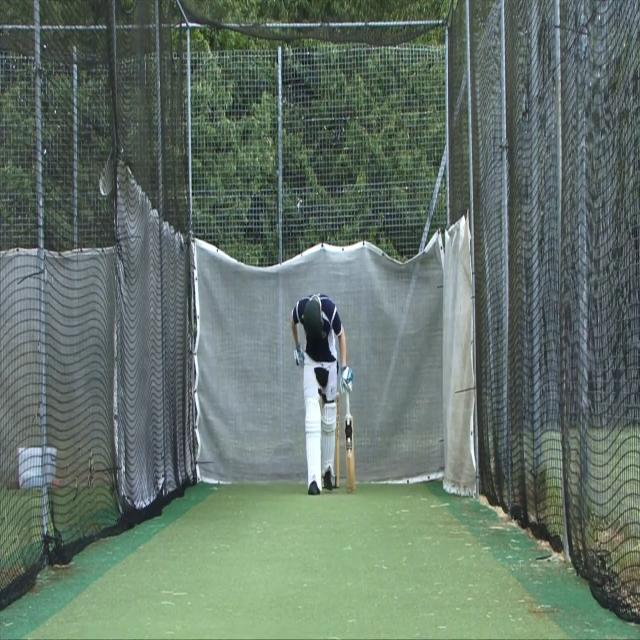batsman: (290, 291, 358, 497)
